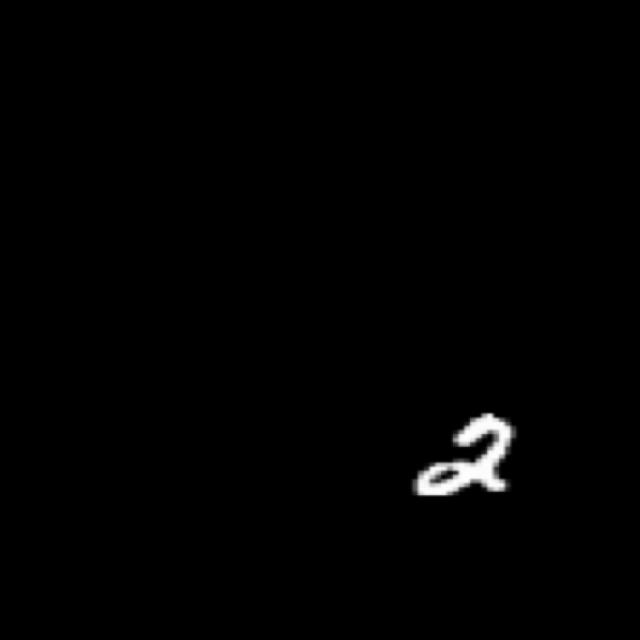two -2-: (407, 406, 525, 504)
